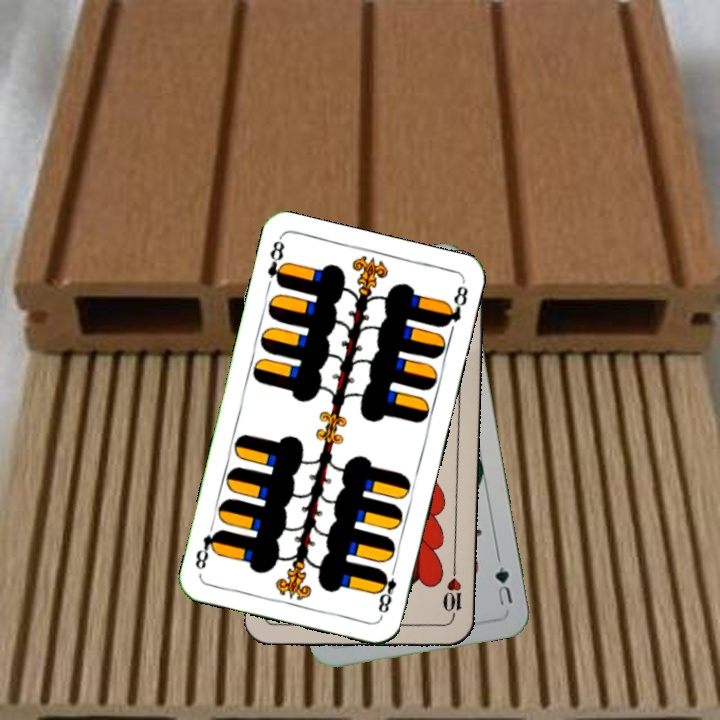E8: (373, 561, 399, 619), (263, 235, 289, 290)
GU: (491, 562, 516, 608)
H10: (438, 564, 464, 623)
